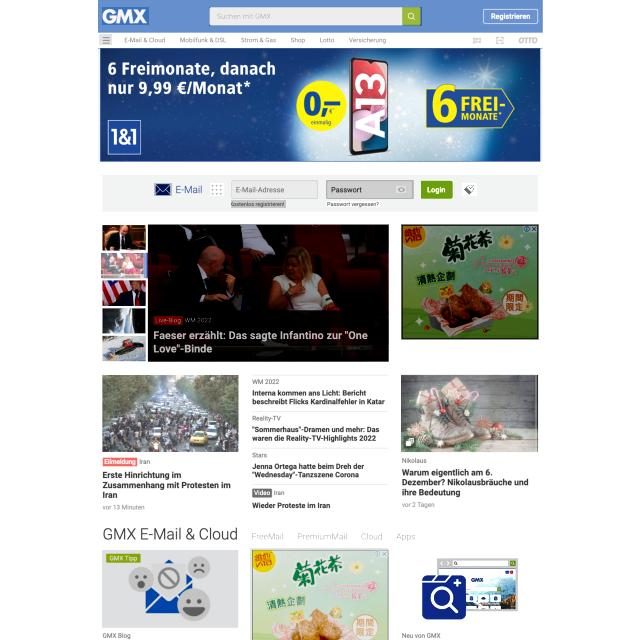CheckBox: (482, 8, 540, 25), (422, 180, 456, 199), (326, 201, 380, 207), (403, 7, 420, 24)
CheckedTextView: (209, 7, 422, 26), (326, 180, 414, 199), (232, 180, 318, 199)
ImageView: (100, 48, 540, 162), (401, 224, 539, 340), (250, 548, 388, 640)
RadioButton: (102, 456, 138, 468), (153, 316, 183, 325), (252, 488, 272, 498)
bag: (97, 0, 542, 48)
card: (148, 224, 389, 362)
carousel: (154, 183, 172, 196), (462, 183, 477, 196), (210, 183, 224, 196), (396, 186, 406, 193)
copy: (103, 374, 239, 453), (401, 550, 538, 628), (402, 374, 538, 452), (102, 550, 238, 628), (101, 252, 148, 278), (102, 224, 146, 251), (102, 280, 146, 306), (103, 308, 146, 334), (102, 336, 146, 361)
data feed: (232, 200, 288, 208)
date picker: (102, 7, 149, 25)
decoration: (122, 36, 388, 46), (251, 530, 418, 544), (99, 34, 112, 45)
footer: (214, 12, 274, 20)
image: (152, 328, 372, 356)
